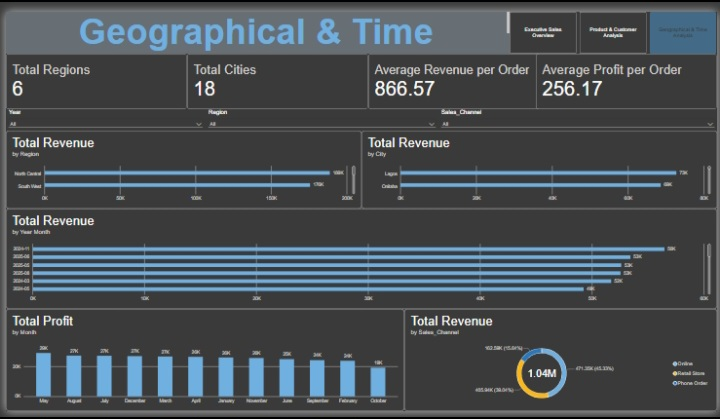

Layout of this report page (visuals, bound fields, positions):
{"tool":"powerbi","page":{"name":"Geographical & Time Analysis","canvas":[1920,1080],"ordinal":2},"visuals":[{"type":"textbox","box":[0,0,1360.5,113.2],"z":0},{"type":"cardVisual","fields":{"Data":["Sales_Data.Total Regions"]},"box":[0,113.2,489.5,150],"z":1},{"type":"cardVisual","fields":{"Data":["Sales_Data.Total Cities"]},"box":[489.5,113.2,489.5,150],"z":2},{"type":"cardVisual","fields":{"Data":["Sales_Data.Average Revenue per Order"]},"box":[978.9,113.2,463.2,150],"z":3},{"type":"cardVisual","fields":{"Data":["Sales_Data.Average Profit per Order"]},"box":[1442.1,113.2,478.9,150],"z":4},{"type":"barChart","fields":{"Category":["Sales_Data.Region"],"Y":["Sales_Data.Total Revenue"]},"box":[0,321.1,960.5,210.5],"z":5},{"type":"barChart","fields":{"Category":["Sales_Data.City"],"Y":["Sales_Data.Total Revenue"]},"box":[960.5,321.1,960.5,210.5],"z":6},{"type":"barChart","fields":{"Category":["Dim Calendar.Year Month"],"Y":["Sales_Data.Total Revenue"]},"box":[0,531.6,1921.1,271.1],"z":7},{"type":"columnChart","fields":{"Category":["Sales_Data.Month"],"Y":["Sales_Data.Total Profit"]},"box":[0,802.6,1076.3,276.3],"z":8},{"type":"donutChart","fields":{"Category":["Sales_Data.Sales_Channel"],"Y":["Sales_Data.Total Revenue"]},"box":[1076.3,802.6,844.7,276.3],"z":9},{"type":"slicer","fields":{"Values":["Sales_Data.Year"]},"box":[0,263.2,539.5,57.9],"z":10},{"type":"slicer","fields":{"Values":["Sales_Data.Region"]},"box":[539.5,263.2,628.9,57.9],"z":11},{"type":"slicer","fields":{"Values":["Sales_Data.Sales_Channel"]},"box":[1168.4,263.2,752.6,57.9],"z":12},{"type":"pageNavigator","box":[1360.5,0,560.5,113.2],"z":13}]}

Visuals, with their boxes on the page's 1920x1080 design canvas (x1, y1, x2, y2). These are canvas units, not pixel positions in the 720x419 screenshot, which may show the page scaled, cropped or inside an application window:
textbox: <region>0, 0, 1360, 113</region>
cardVisual - Sales_Data.Total Regions: <region>0, 113, 490, 263</region>
cardVisual - Sales_Data.Total Cities: <region>490, 113, 979, 263</region>
cardVisual - Sales_Data.Average Revenue per Order: <region>979, 113, 1442, 263</region>
cardVisual - Sales_Data.Average Profit per Order: <region>1442, 113, 1921, 263</region>
barChart - Sales_Data.Region x Sales_Data.Total Revenue: <region>0, 321, 960, 532</region>
barChart - Sales_Data.City x Sales_Data.Total Revenue: <region>960, 321, 1921, 532</region>
barChart - Dim Calendar.Year Month x Sales_Data.Total Revenue: <region>0, 532, 1921, 803</region>
columnChart - Sales_Data.Month x Sales_Data.Total Profit: <region>0, 803, 1076, 1079</region>
donutChart - Sales_Data.Sales_Channel x Sales_Data.Total Revenue: <region>1076, 803, 1921, 1079</region>
slicer - Sales_Data.Year: <region>0, 263, 540, 321</region>
slicer - Sales_Data.Region: <region>540, 263, 1168, 321</region>
slicer - Sales_Data.Sales_Channel: <region>1168, 263, 1921, 321</region>
pageNavigator: <region>1360, 0, 1921, 113</region>
